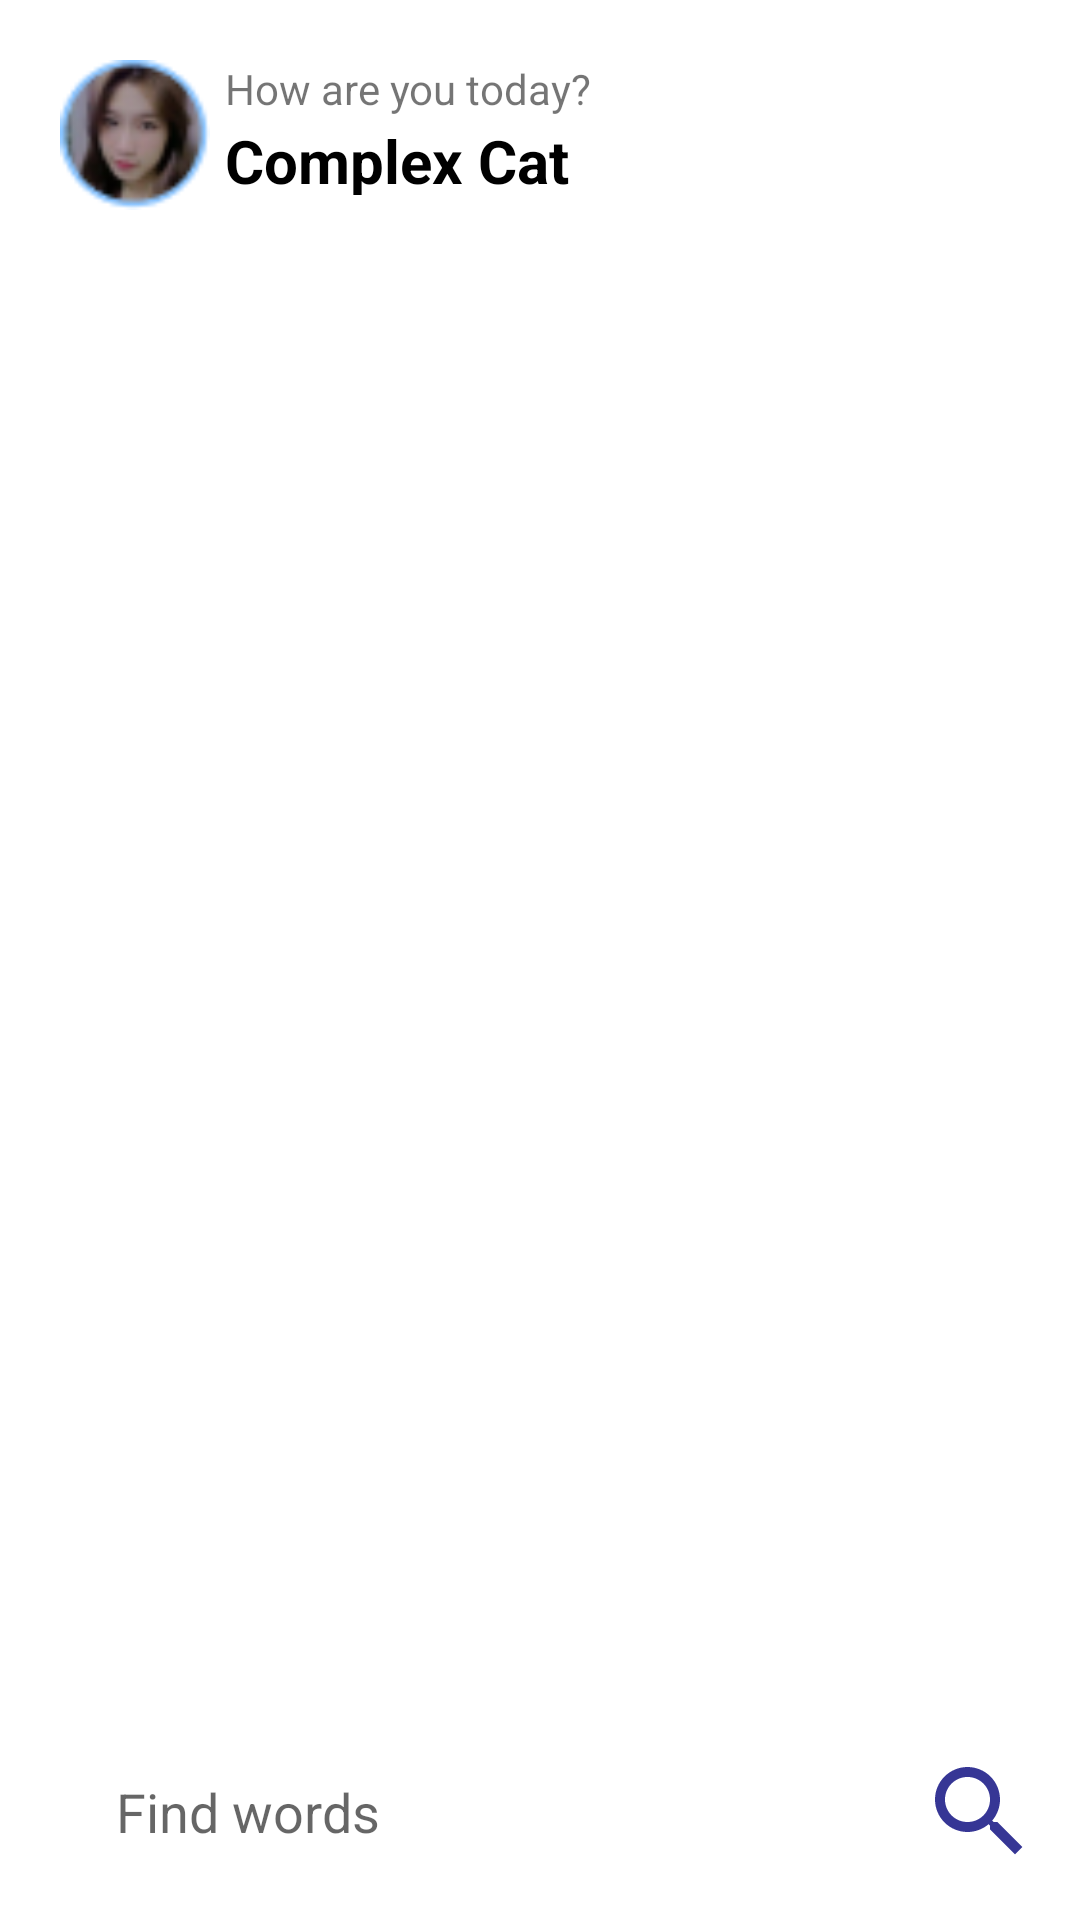

Icons on this 1080 × 1920 Android screen, each with the point to tap as (x=x, y=y):
avt: (x=134, y=134)
search: (x=978, y=1810)
